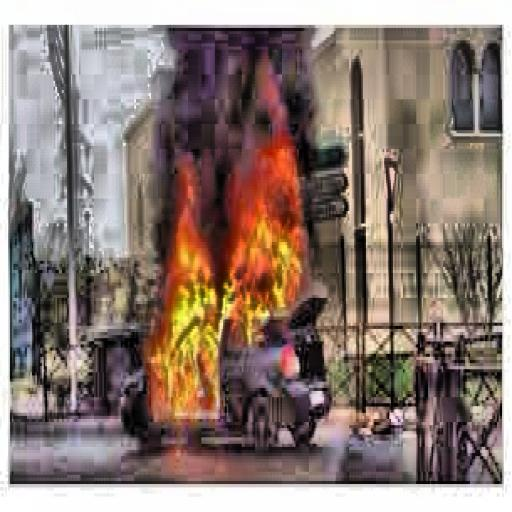fire: (144, 134, 319, 425)
